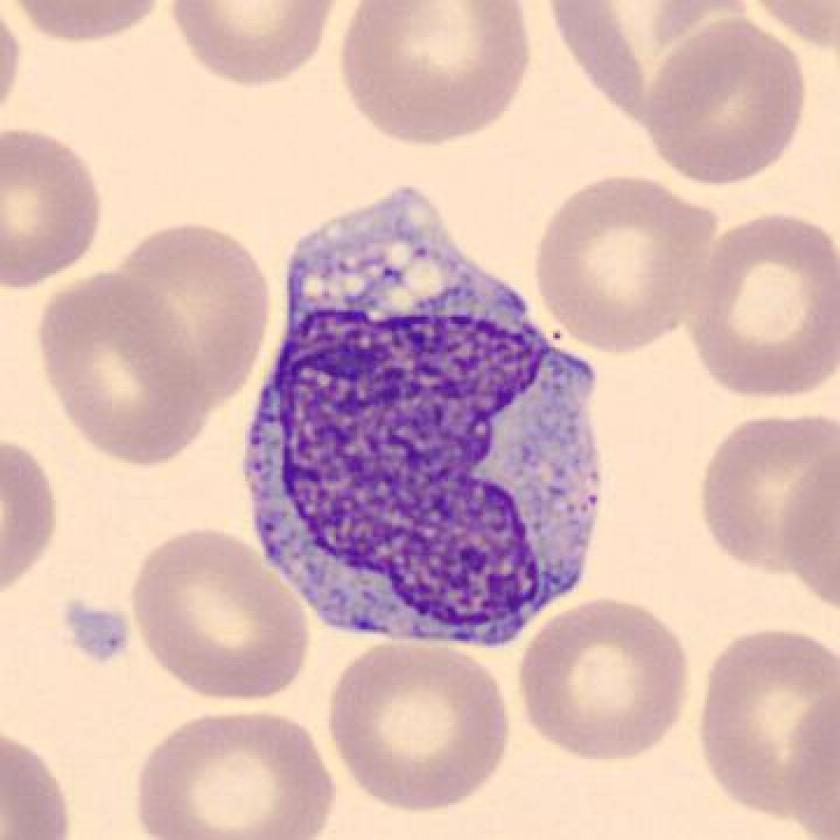monocyte: (230, 170, 626, 670)
